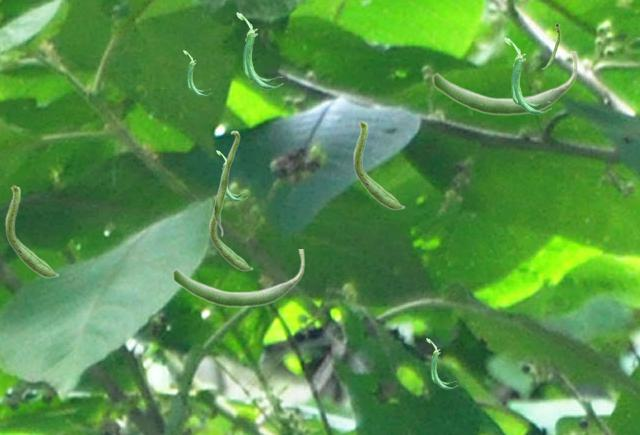french_bean: (432, 51, 577, 115), (172, 249, 304, 307), (5, 184, 58, 277), (353, 120, 404, 209), (236, 12, 282, 88), (504, 37, 550, 113), (209, 194, 252, 270), (213, 130, 239, 236), (216, 150, 246, 200), (426, 338, 456, 388), (183, 50, 210, 95), (541, 23, 559, 68)
